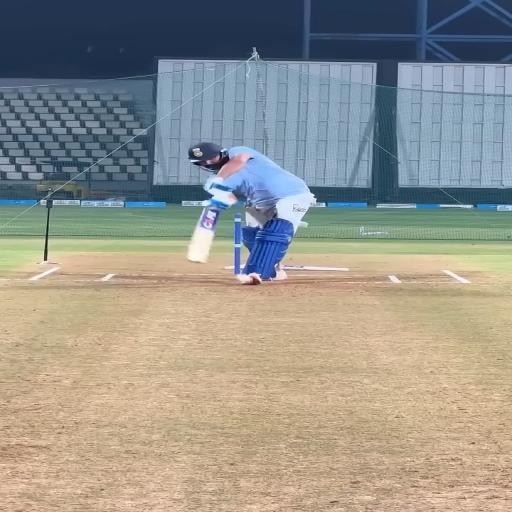Cricket bat: (188, 206, 220, 263)
